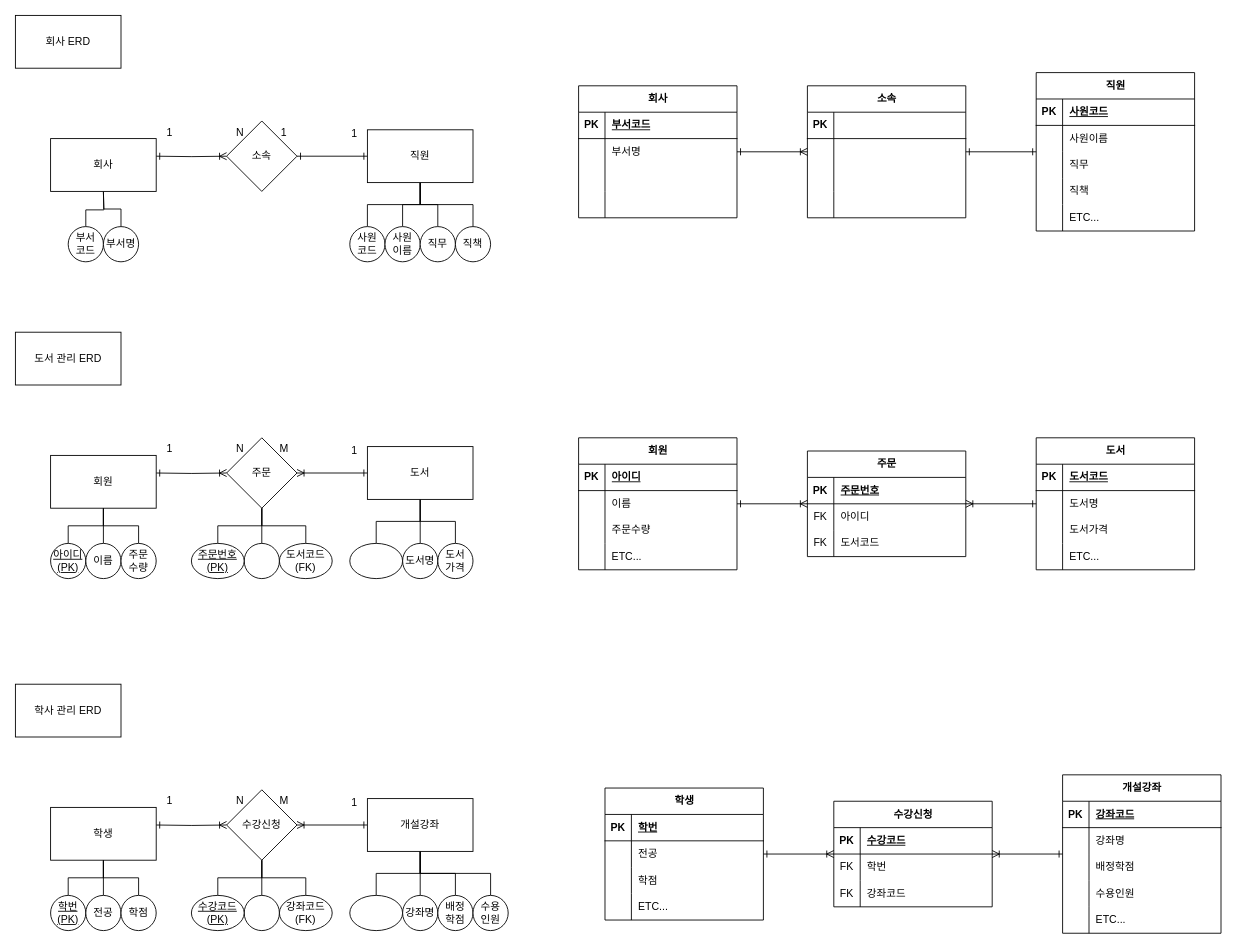
The diagram is 1236 pixels wide and 949 high, and some of its shapes have lost their labels. Here are the shapes that lost their labels. From the top down, the centre of each, then its label:
point 261,561: 아이디 (FK)
point 376,561: 도서코드 (PK)
point 261,913: 학번 (FK)
point 376,913: 강좌코드 (PK)
